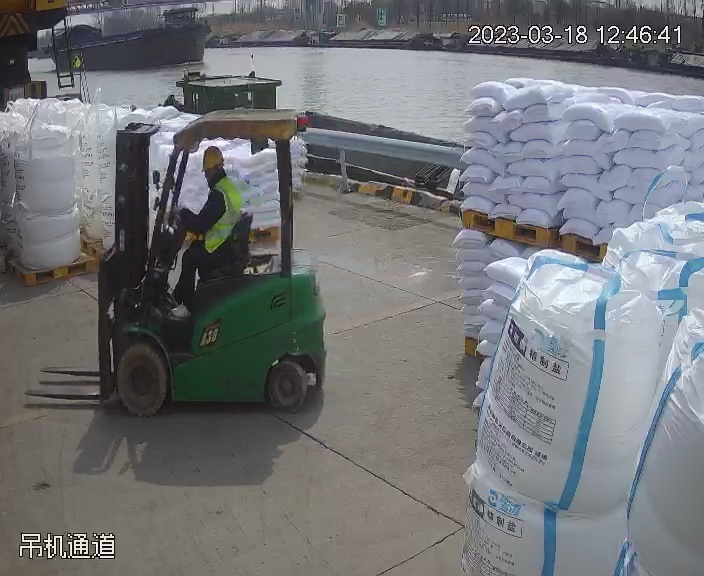head: (195, 146, 243, 209)
helmet: (200, 145, 226, 171)
people: (160, 145, 245, 314)
